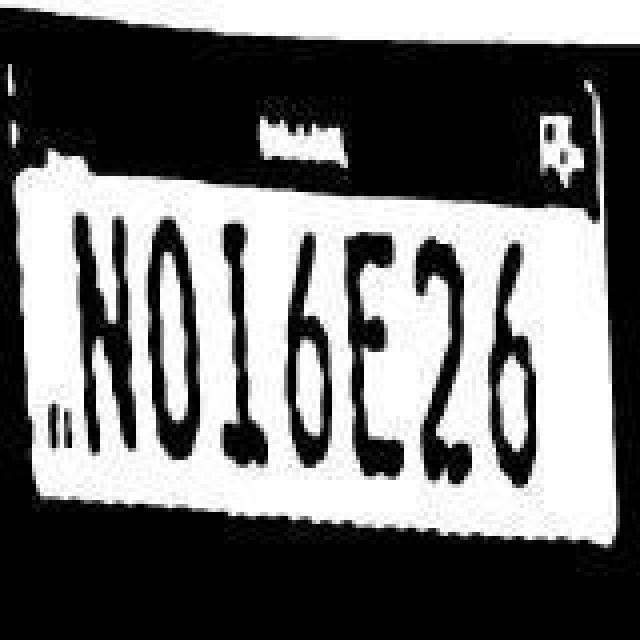2: (412, 222, 476, 498)
6: (480, 232, 544, 496), (278, 214, 338, 474)
E: (344, 224, 408, 488)
I: (218, 216, 270, 472)
N: (68, 194, 140, 470)
O: (138, 216, 206, 464)
